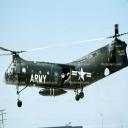helicopter: (2, 25, 128, 103)
